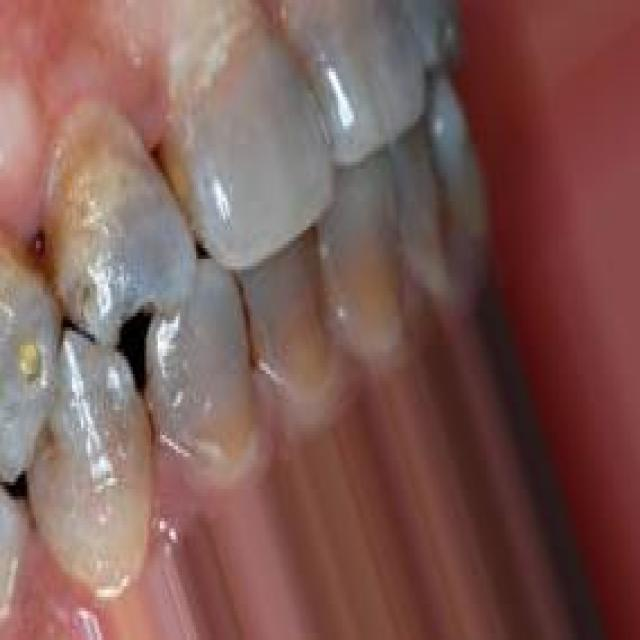caries: (10, 329, 48, 401)
